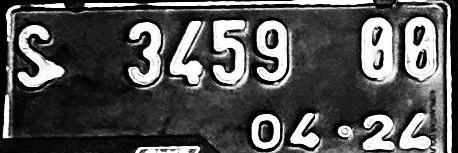3: (125, 20, 164, 92)
4: (164, 18, 208, 90)
5: (208, 17, 250, 91)
9: (250, 18, 292, 91)
O: (396, 15, 440, 84), (358, 15, 397, 84)
S: (15, 22, 56, 96)
